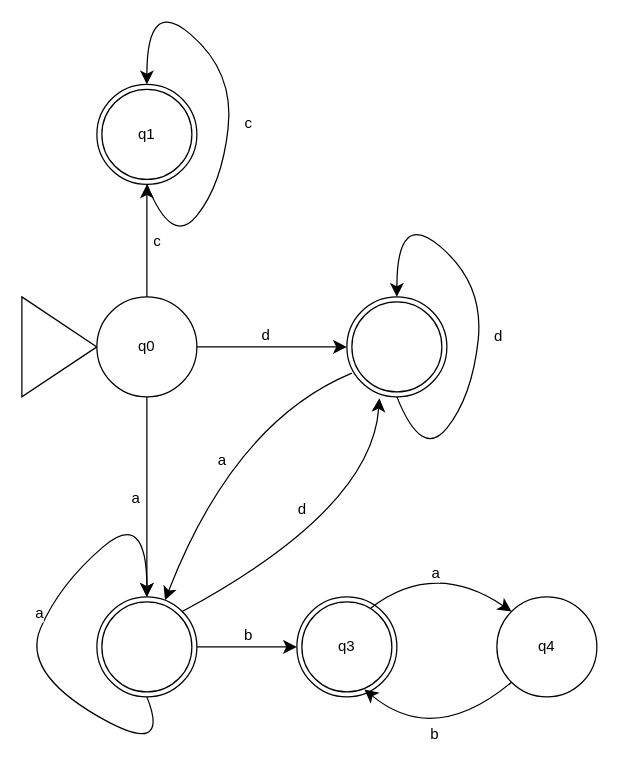
This 619x765 diagram has some shape labels left out. Each missing label, with the centre of its shape:
q2: point (146, 646)
q5: point (396, 346)
